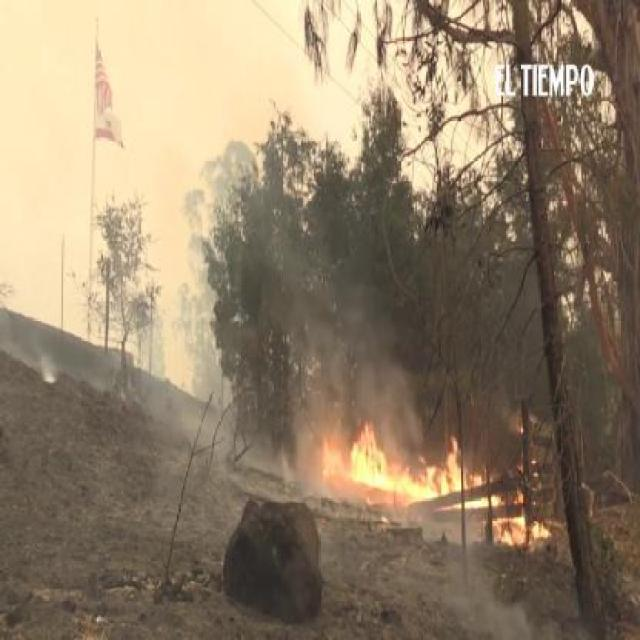Fire: (319, 420, 501, 505), (494, 516, 551, 546)
